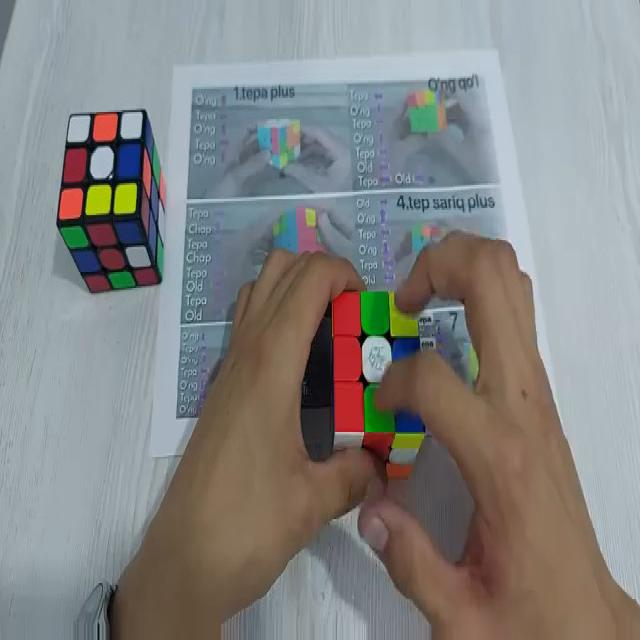Rub: (56, 107, 164, 291), (328, 286, 427, 477)
